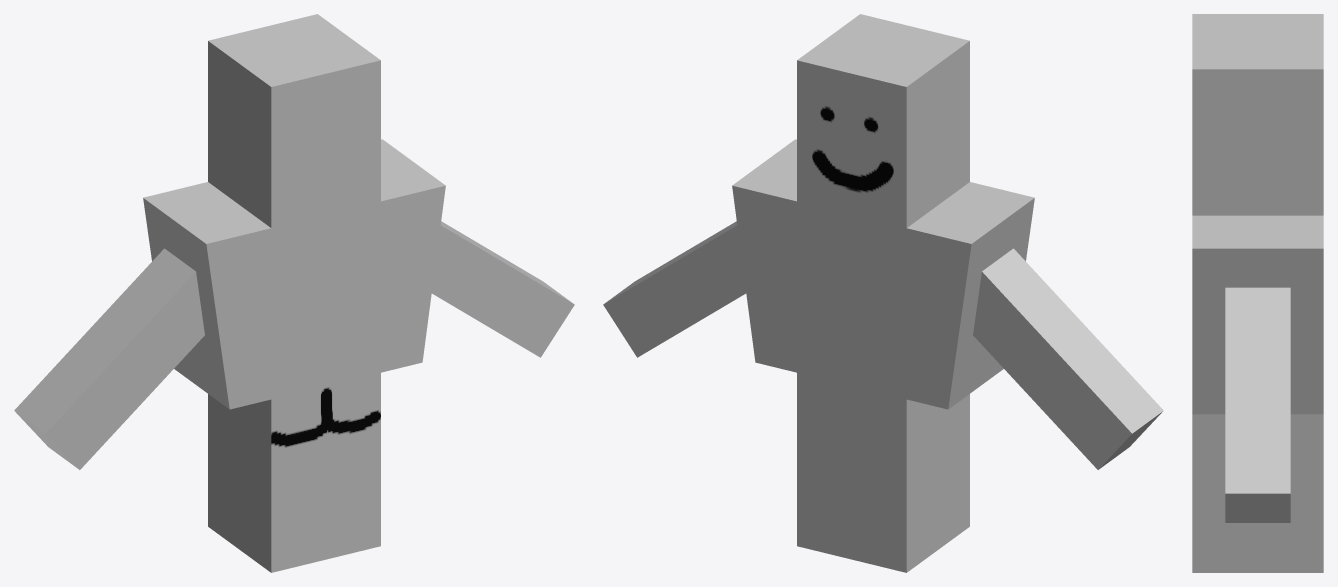
The model's file is char.glb.
3 renders of one model, left to right at view 1: azimuth 30°, elevation 25°; view 2: azimuth 150°, elevation 25°; view 3: azimuth 270°, elevation 25°, orthographic. The views are drawn at different scales.
Visible parts, largest first — view 1: Cube; view 2: Cube; view 3: Cube.
Part boxes in pixels (x1=…): Cube: x1=14, y1=14, x2=574, y2=572; Cube: x1=603, y1=14, x2=1163, y2=572; Cube: x1=1192, y1=14, x2=1323, y2=572.
Size of the model in its own units: 1.45 by 1.27 by 0.3.
Materials: 1 (1 with a texture image).
